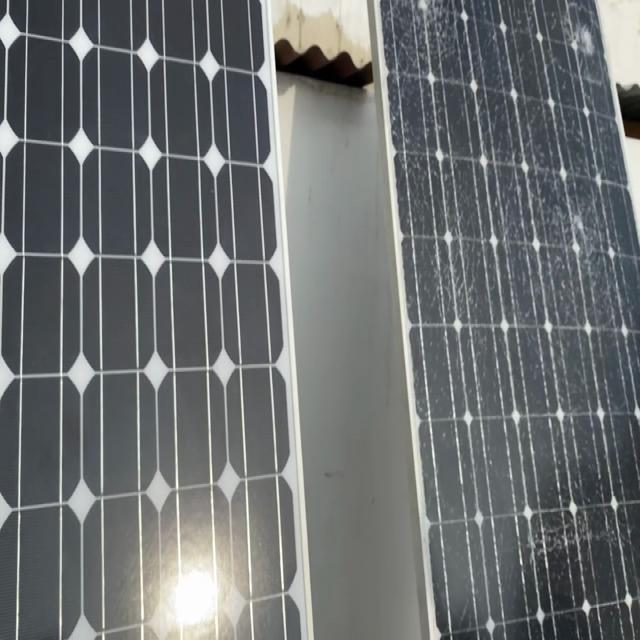Normal Solar Panel: (0, 0, 310, 638)
